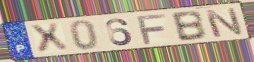0: (68, 19, 102, 52)
6: (106, 17, 135, 47)
B: (169, 9, 208, 43)
F: (135, 13, 168, 45)
N: (202, 7, 246, 39)
X: (27, 22, 72, 55)
